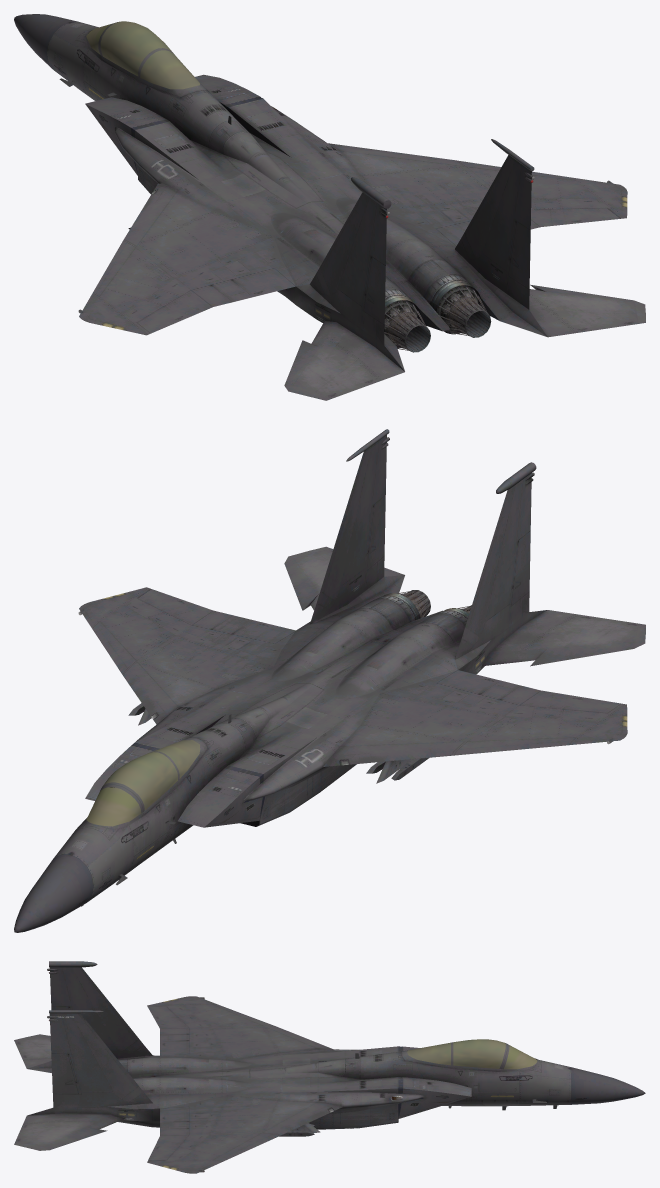
3 renders of one model, top to bottom at view 1: azimuth 30°, elevation 25°; view 2: azimuth 150°, elevation 25°; view 3: azimuth 270°, elevation 25°, orthographic. The views are drawn at different scales.
Visible parts, largest first — view 1: Object_6, Object_5, Object_4; view 2: Object_6, Object_5, Object_4; view 3: Object_6, Object_5, Object_4.
Boxes of the visible parts, x1,y1,x2,y2 form: Object_6: (14,14,627,371); Object_5: (85,22,645,400); Object_4: (86,21,200,89); Object_6: (14,429,627,932); Object_5: (85,448,645,827); Object_4: (86,740,200,826); Object_6: (27,961,645,1173); Object_5: (14,975,507,1160); Object_4: (407,1039,537,1069).
Bounding box in the file's own units: 12.93 × 4.35 × 19.47.
4 materials, 4 textured.
